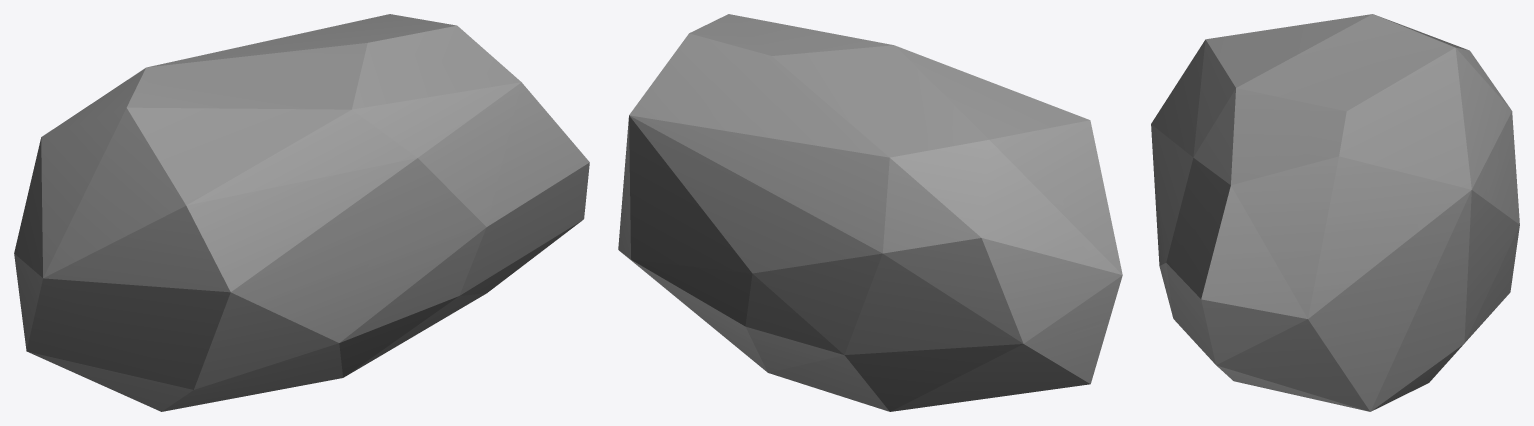
The model's file is rock_big_oval.fbx.
3 renders of one model, left to right at view 1: azimuth 30°, elevation 25°; view 2: azimuth 150°, elevation 25°; view 3: azimuth 270°, elevation 25°, orthographic. The views are drawn at different scales.
Parts seen in each view (by area): view 1: rock_big.oval; view 2: rock_big.oval; view 3: rock_big.oval.
Part boxes in pixels (box(x1,y1,x2,y2)): rock_big.oval: box(14, 14, 589, 411); rock_big.oval: box(618, 14, 1122, 411); rock_big.oval: box(1151, 14, 1519, 411).
Size of the model in its own units: 2.5 by 1.34 by 1.55.
1 material, 1 textured.
